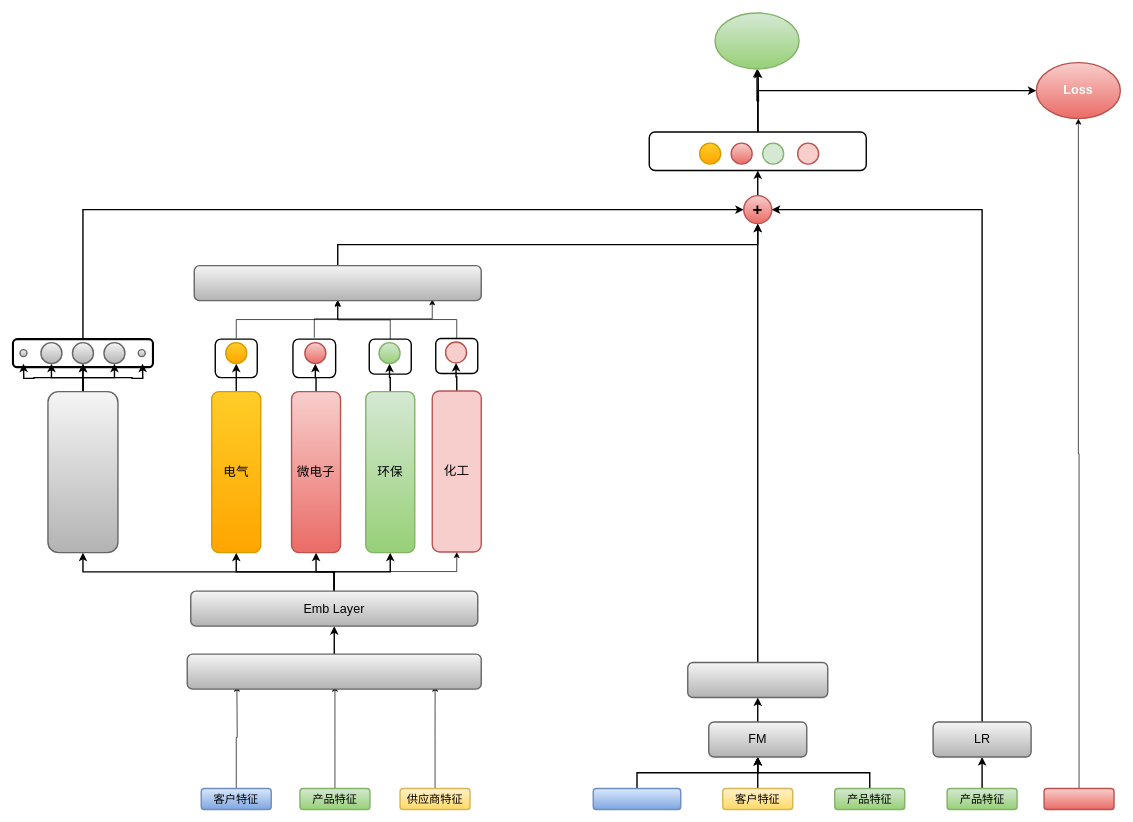
This 1133x822 diagram has some shape labels left out. Here are the shapes that lost their labels. From the top down, the box of each, then its label:
(714, 12, 799, 69): Pred
(193, 265, 482, 301): Concat Layer
(47, 391, 118, 553): Shared Tower
(186, 653, 482, 690): FFM Layer
(687, 662, 828, 698): FC Layer
(592, 788, 681, 810): 客户基础属性
(1043, 788, 1114, 810): Label
